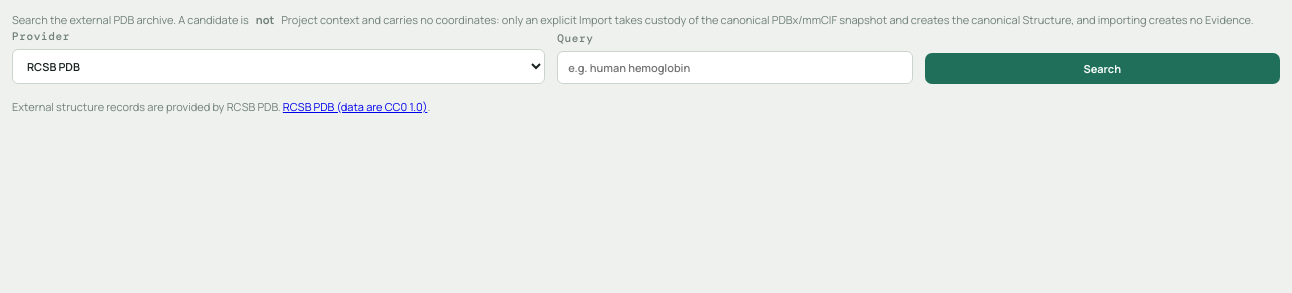
Test case: StructureDiscoveryView › a viewer can search but is not offered Import
This screenshot has width=1292, height=293.
Type "hemoglobin" into the field named "Structure search query".
click(735, 67); type("hemoglobin")  # box [557,51,912,84]
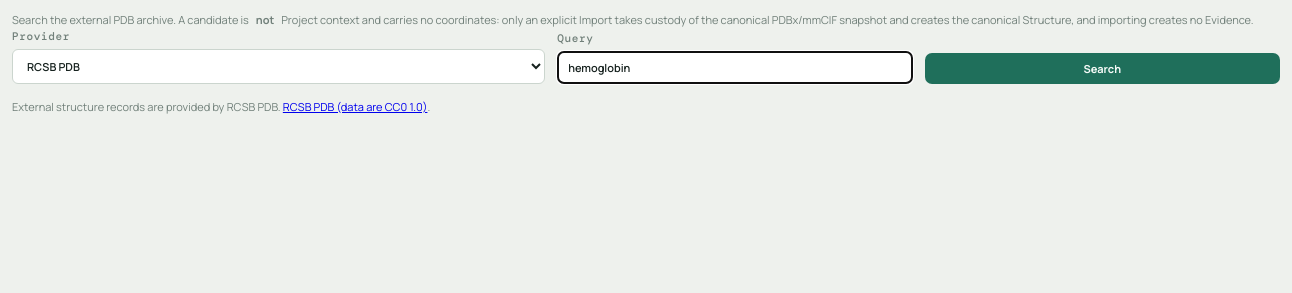
Click the button "Search".
click(1102, 68)  # box [925,53,1280,84]
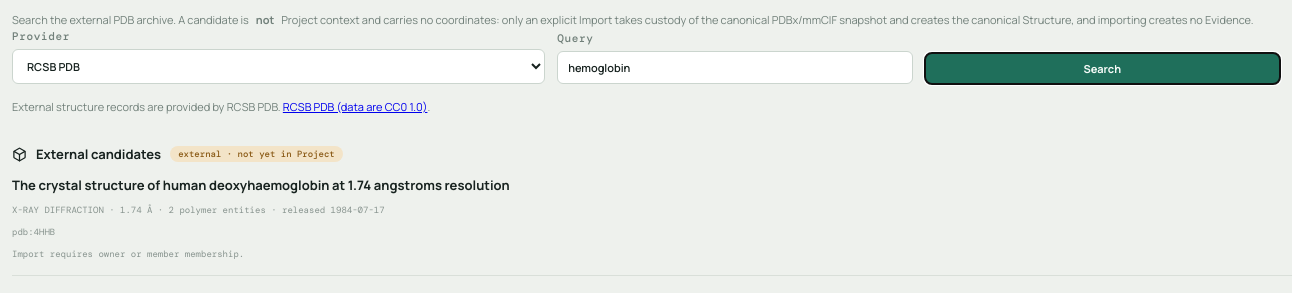
Result: the text "External candidates" is shown at [36,145,161,163]
Result: the text "Import requires owner or member membership." is shown at [12,248,244,262]
